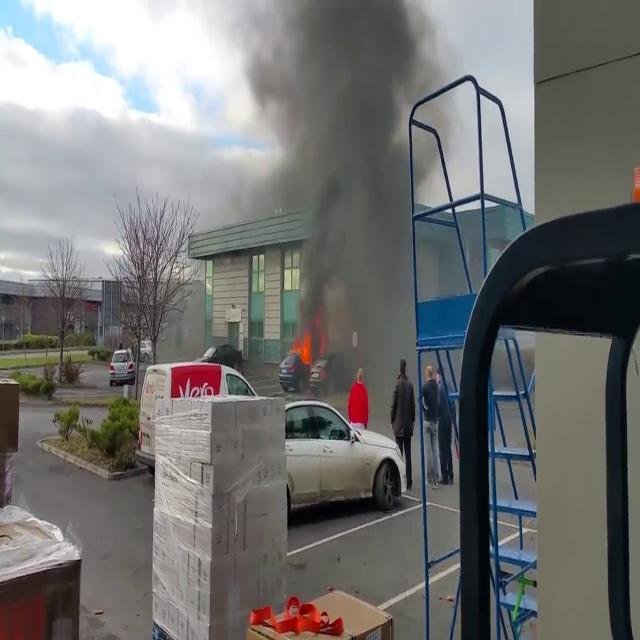Fire: (289, 326, 313, 372)
Smoke: (286, 1, 424, 374)
